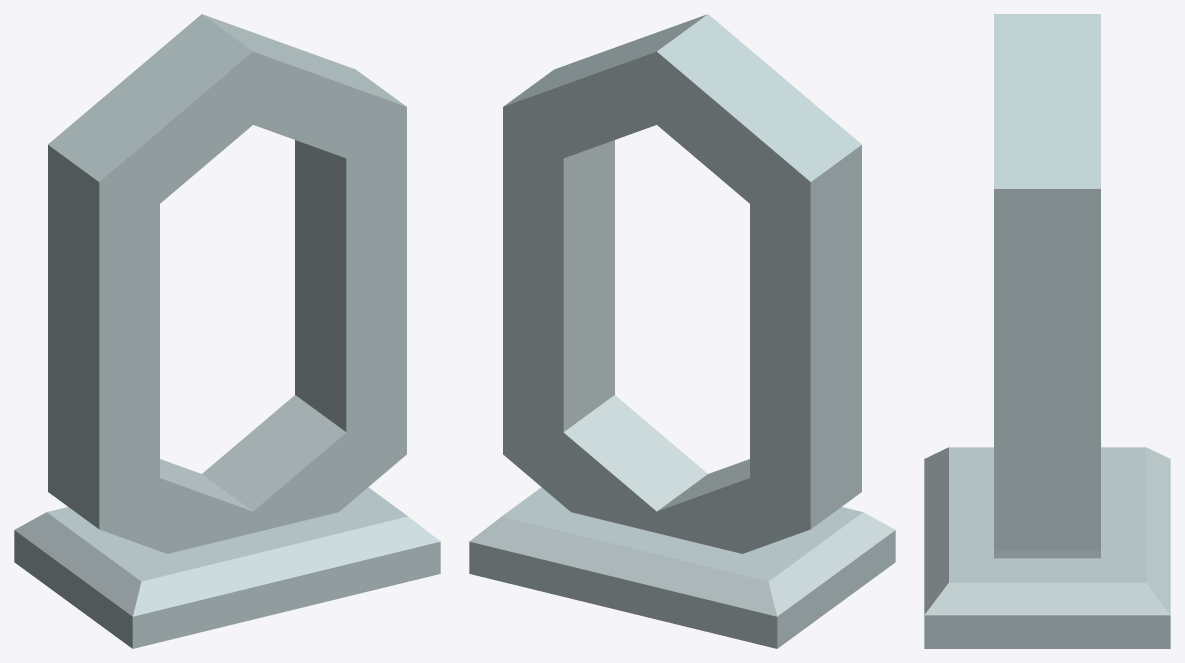
File: teleport.glb
3 renders of one model, left to right at view 1: azimuth 30°, elevation 25°; view 2: azimuth 150°, elevation 25°; view 3: azimuth 270°, elevation 25°, orthographic. The views are drawn at different scales.
Parts seen in each view (by area): view 1: statue_ring; view 2: statue_ring; view 3: statue_ring.
Part boxes in pixels (x1=…): statue_ring: x1=14, y1=14, x2=440, y2=648; statue_ring: x1=469, y1=14, x2=895, y2=648; statue_ring: x1=924, y1=14, x2=1170, y2=648.
Bounding box in the file's own units: 0.6 × 0.9964 × 0.4.
